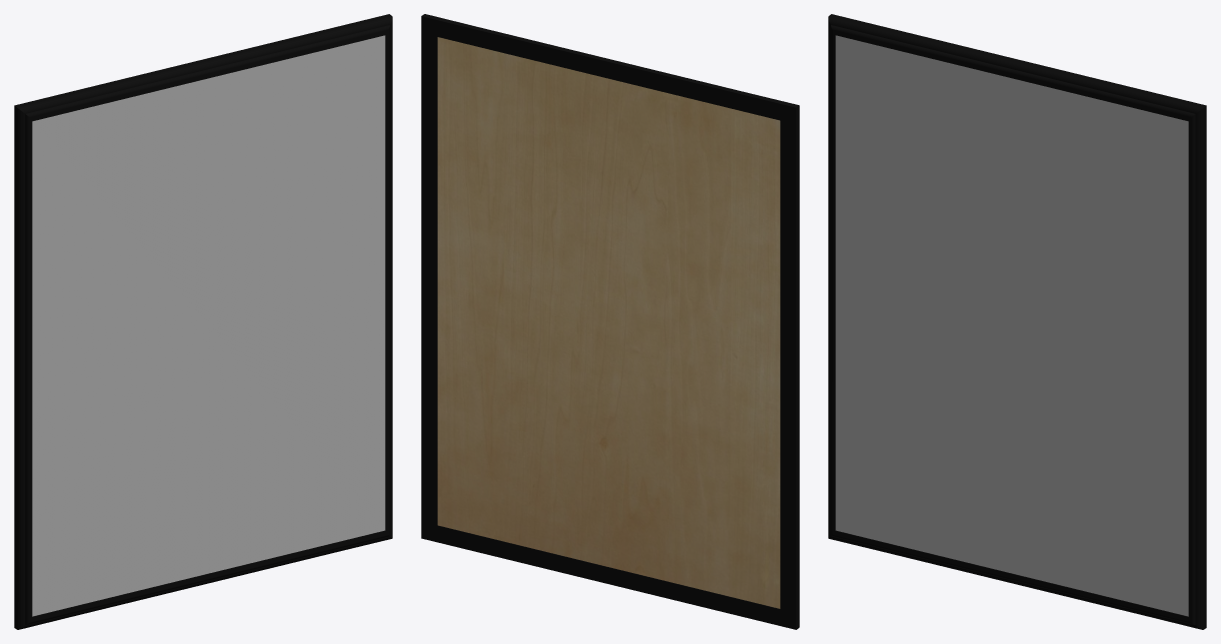
The model's file is photo_frame.glb.
3 views of the same model, side by side, from view 1: azimuth 30°, elevation 25°; view 2: azimuth 150°, elevation 25°; view 3: azimuth 330°, elevation 25° (orthographic).
Visible parts, largest first — view 1: Plexiglass, Frame; view 2: Wood, Frame; view 3: Plexiglass, Frame.
Part boxes in pixels (bbox=[...]): Plexiglass: bbox=[32, 35, 385, 616]; Frame: bbox=[14, 14, 392, 629]; Wood: bbox=[437, 37, 780, 608]; Frame: bbox=[421, 14, 799, 629]; Plexiglass: bbox=[835, 35, 1188, 616]; Frame: bbox=[828, 14, 1206, 629].
Bounding box in the file's own units: 0.2118 × 0.2818 × 0.007.
4 materials, 4 textured.
